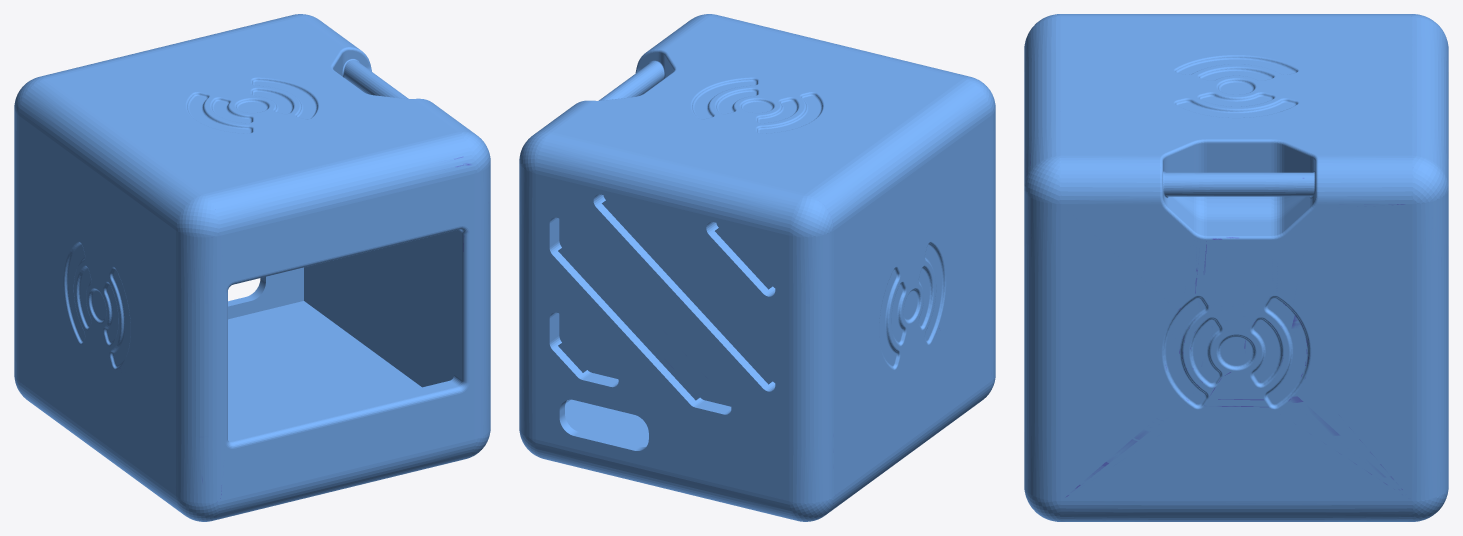
The model's file is katse3toode.glb.
3 views of the same model, side by side, from view 1: azimuth 30°, elevation 25°; view 2: azimuth 150°, elevation 25°; view 3: azimuth 270°, elevation 25° (orthographic). The views are drawn at different scales.
Visible parts, largest first — view 1: küüb pro; view 2: küüb pro; view 3: küüb pro.
Part boxes in pixels (x1=…): küüb pro: x1=14, y1=14, x2=490, y2=521; küüb pro: x1=519, y1=14, x2=995, y2=521; küüb pro: x1=1024, y1=14, x2=1448, y2=521.
Bounding box in the file's own units: 33 × 33 × 35.
Materials: 1 (1 with a texture image).
